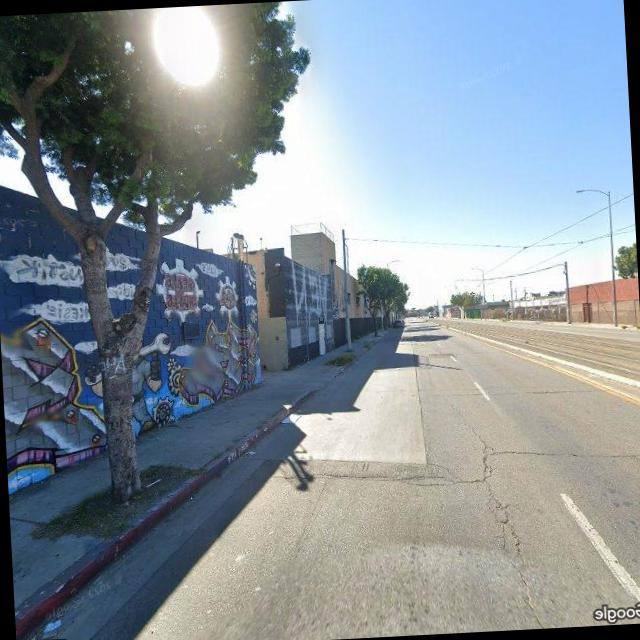crack: (464, 400, 528, 566), (272, 454, 484, 494), (492, 435, 640, 471)
